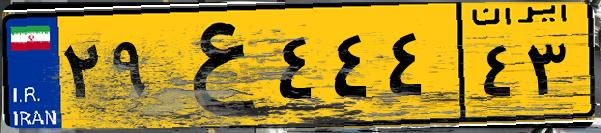2: (57, 26, 110, 100)
3: (525, 38, 570, 115)
4: (270, 28, 330, 110), (385, 28, 445, 110), (330, 28, 385, 110), (475, 38, 525, 113)
9: (110, 28, 158, 98)
ع: (158, 12, 270, 120)
